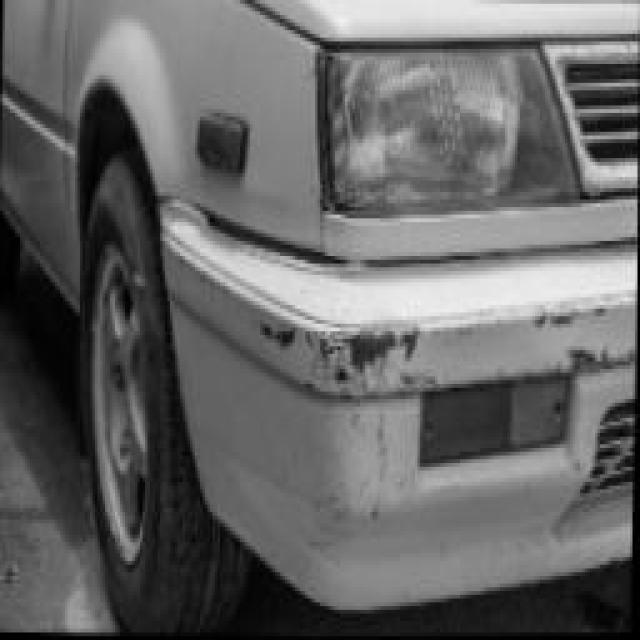Bumper: (232, 282, 485, 582)
